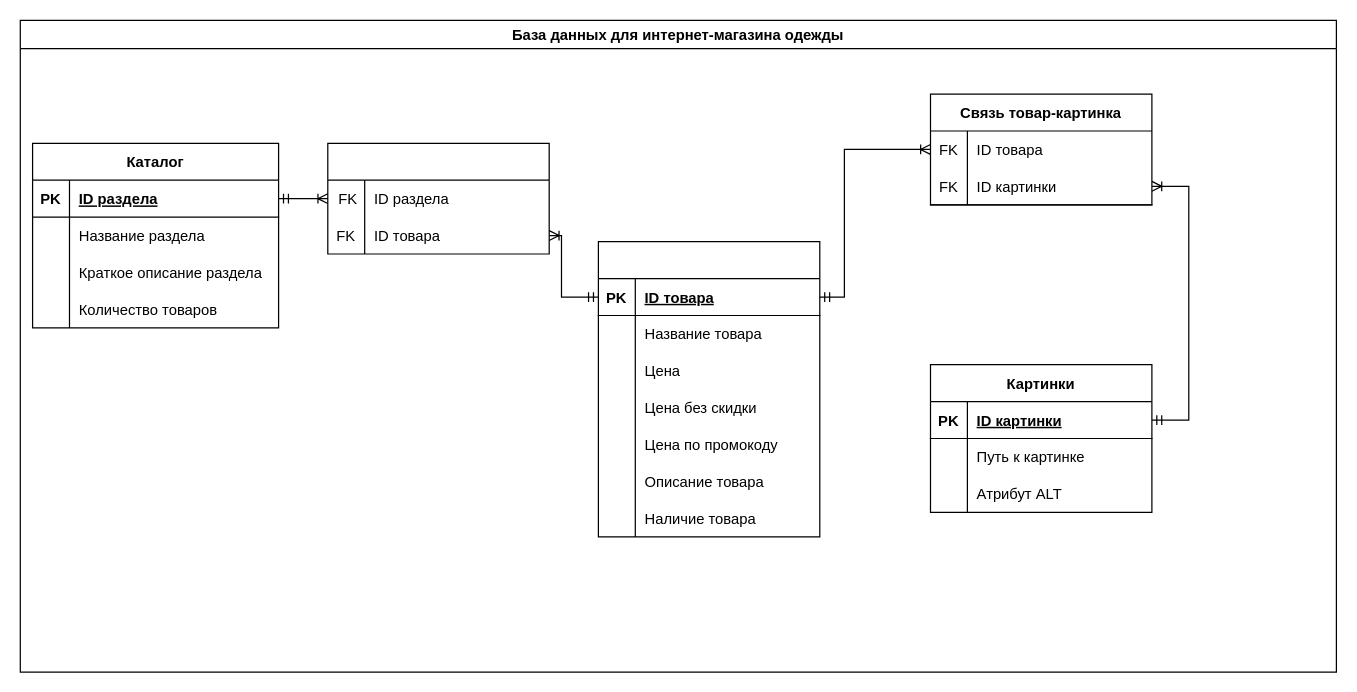
This 1357x692 diagram has some shape labels left out. Each missing label, with the box of its shape:
Раздел: (597, 240, 820, 537)
Связь раздел-товар: (327, 142, 549, 254)
